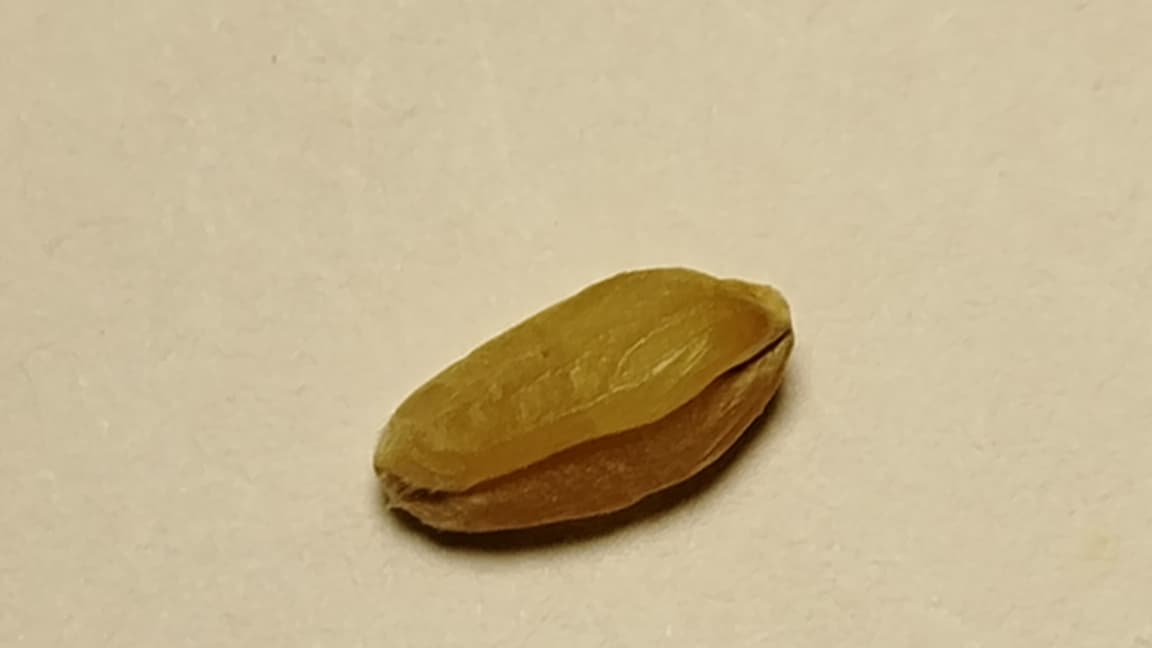healthy: (374, 267, 791, 531)
